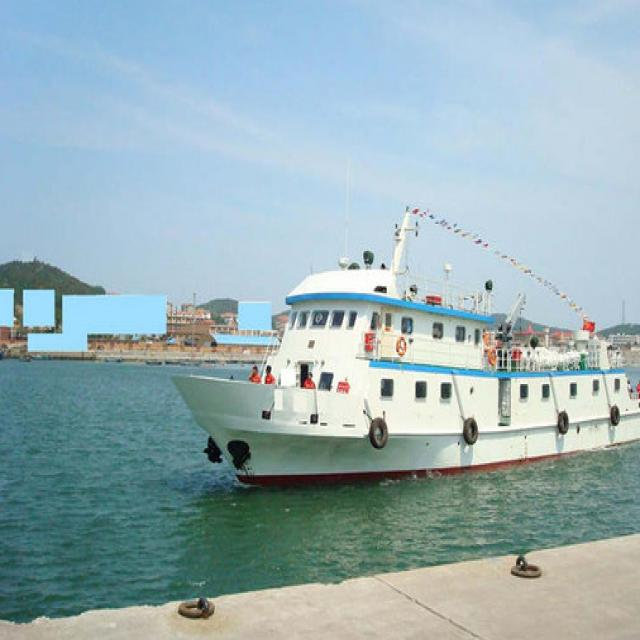passenger ship: (182, 217, 640, 490)
